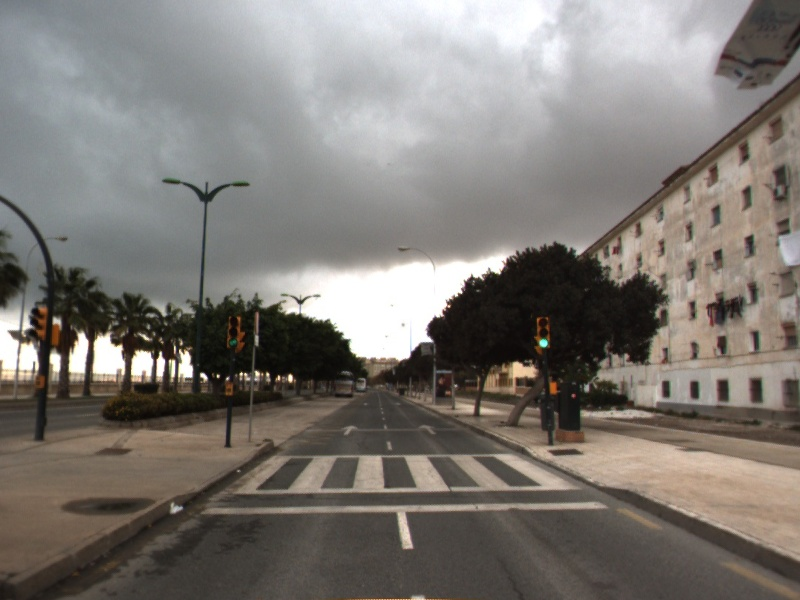STRAIGHT: (338, 423, 363, 438), (416, 422, 439, 436)
